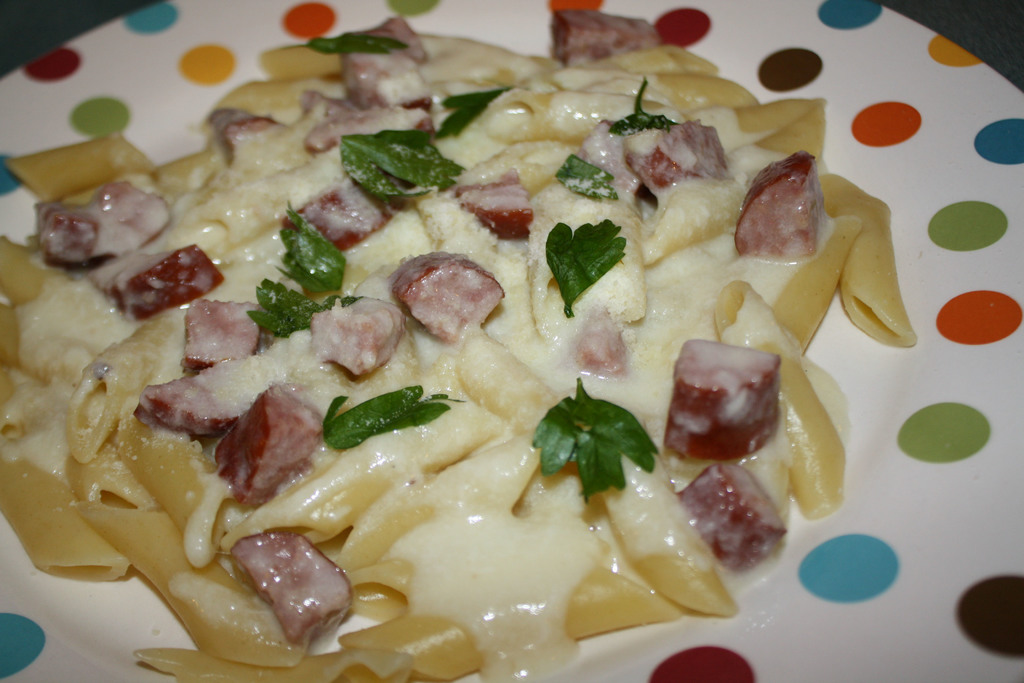pasta: (0, 13, 917, 682)
